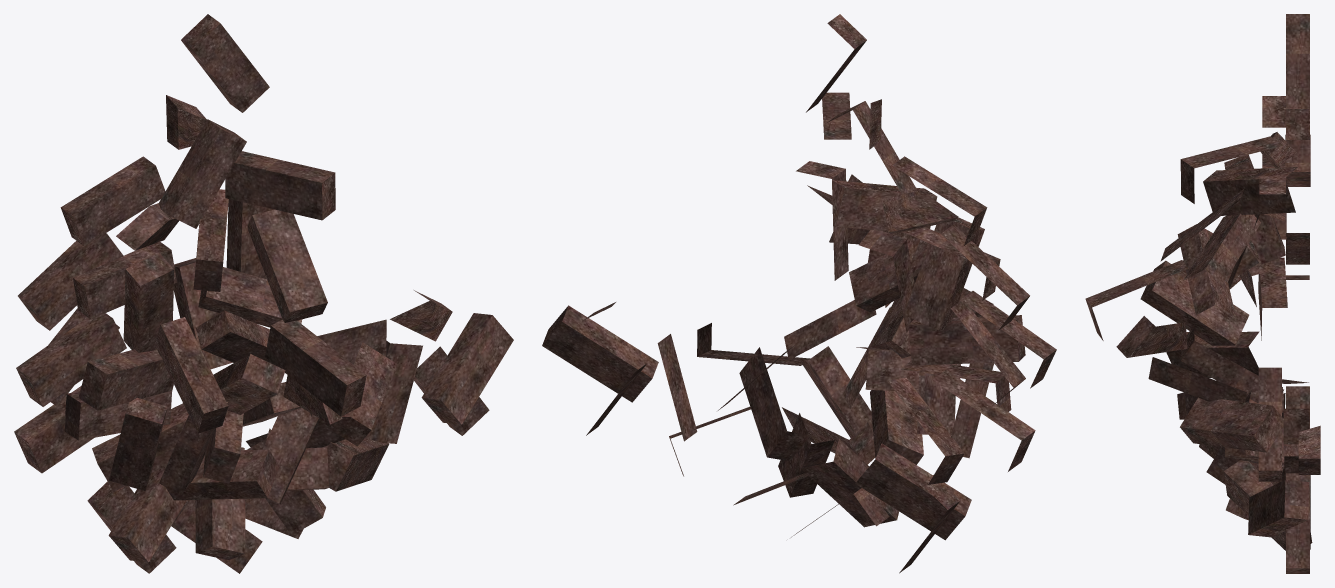
File: prop_redbrickpile_corner_out_debris_01.glb
3 views of the same model, side by side, from view 1: azimuth 30°, elevation 25°; view 2: azimuth 150°, elevation 25°; view 3: azimuth 270°, elevation 25° (orthographic). The views are drawn at different scales.
Size of the model in its own units: 74.87 by 79.96 by 32.34.
1 material, 1 textured.
